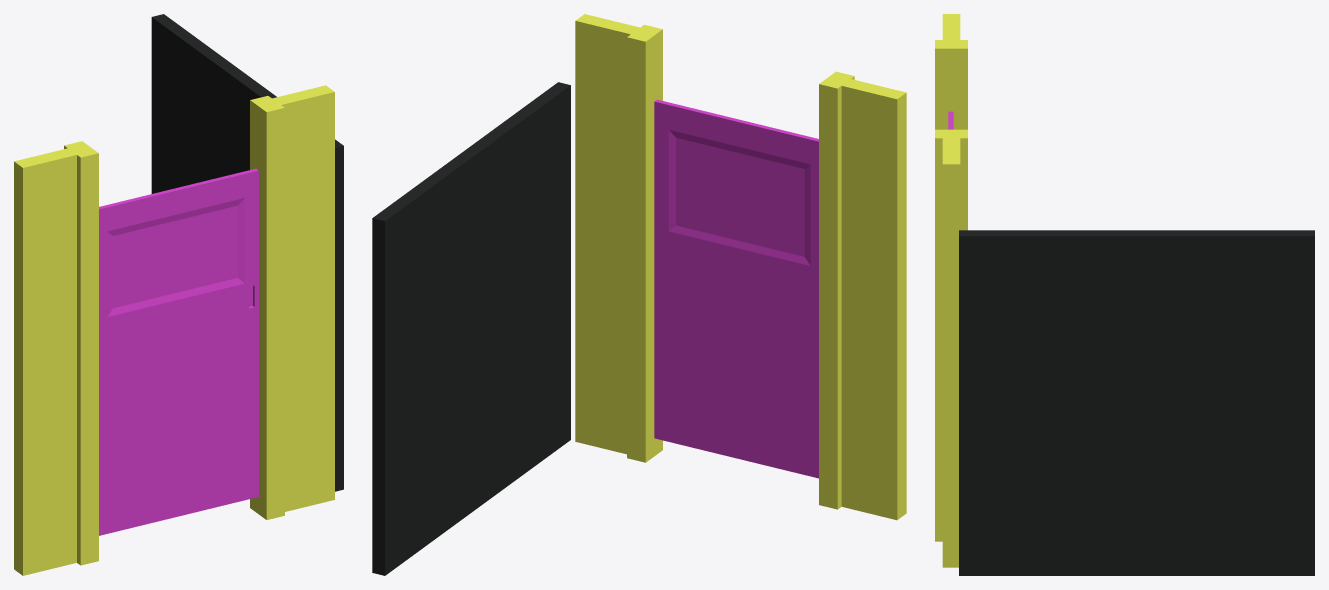
Rendered from WcWalls.fbx.
3 views of the same model, side by side, from view 1: azimuth 30°, elevation 25°; view 2: azimuth 150°, elevation 25°; view 3: azimuth 270°, elevation 25° (orthographic). The views are drawn at different scales.
Parts seen in each view (by area): view 1: WCDoorBorder, WCDoor, WCBarrier; view 2: WCDoorBorder, WCBarrier, WCDoor; view 3: WCBarrier, WCDoorBorder.
Boxes of the visible parts, bbox=[...] form: WCDoorBorder: bbox=[14, 85, 334, 575]; WCDoor: bbox=[99, 168, 258, 535]; WCBarrier: bbox=[151, 14, 343, 491]; WCDoorBorder: bbox=[575, 14, 906, 520]; WCBarrier: bbox=[372, 82, 570, 575]; WCDoor: bbox=[654, 99, 818, 478]; WCBarrier: bbox=[959, 230, 1314, 575]; WCDoorBorder: bbox=[935, 14, 967, 567].
Size of the model in its own units: 211 by 250 by 213.
